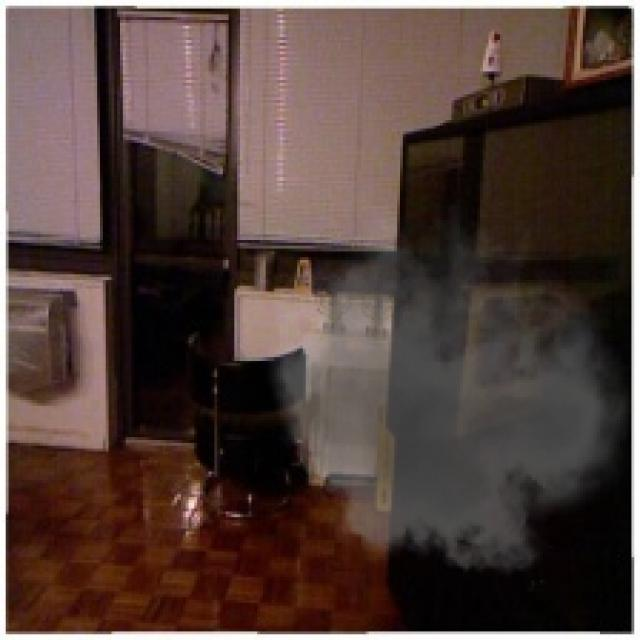smoke: (254, 203, 632, 591)
